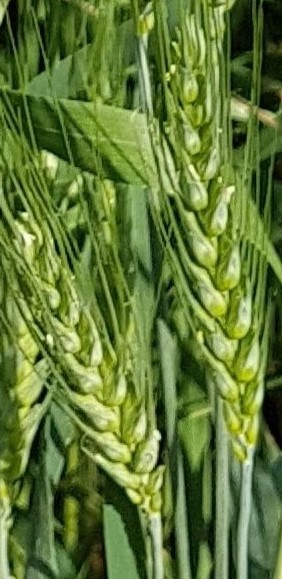Healthy Wheat: (1, 179, 163, 509), (165, 10, 282, 432)
